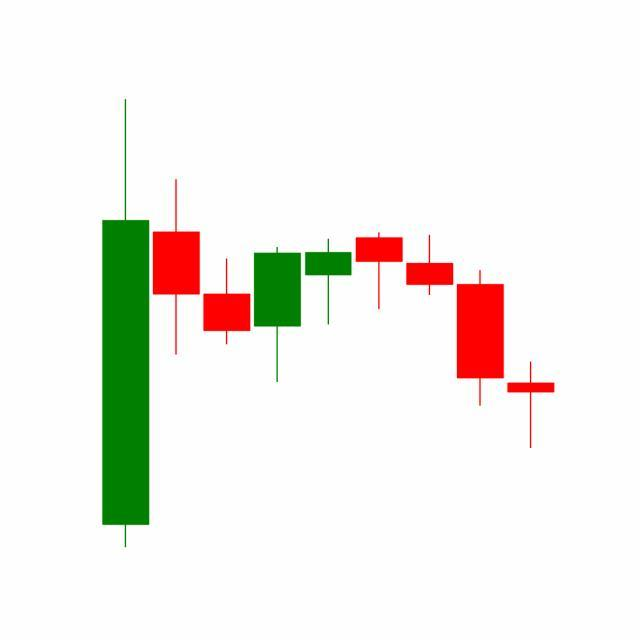Hikkake Pattern: (252, 230, 506, 409)
